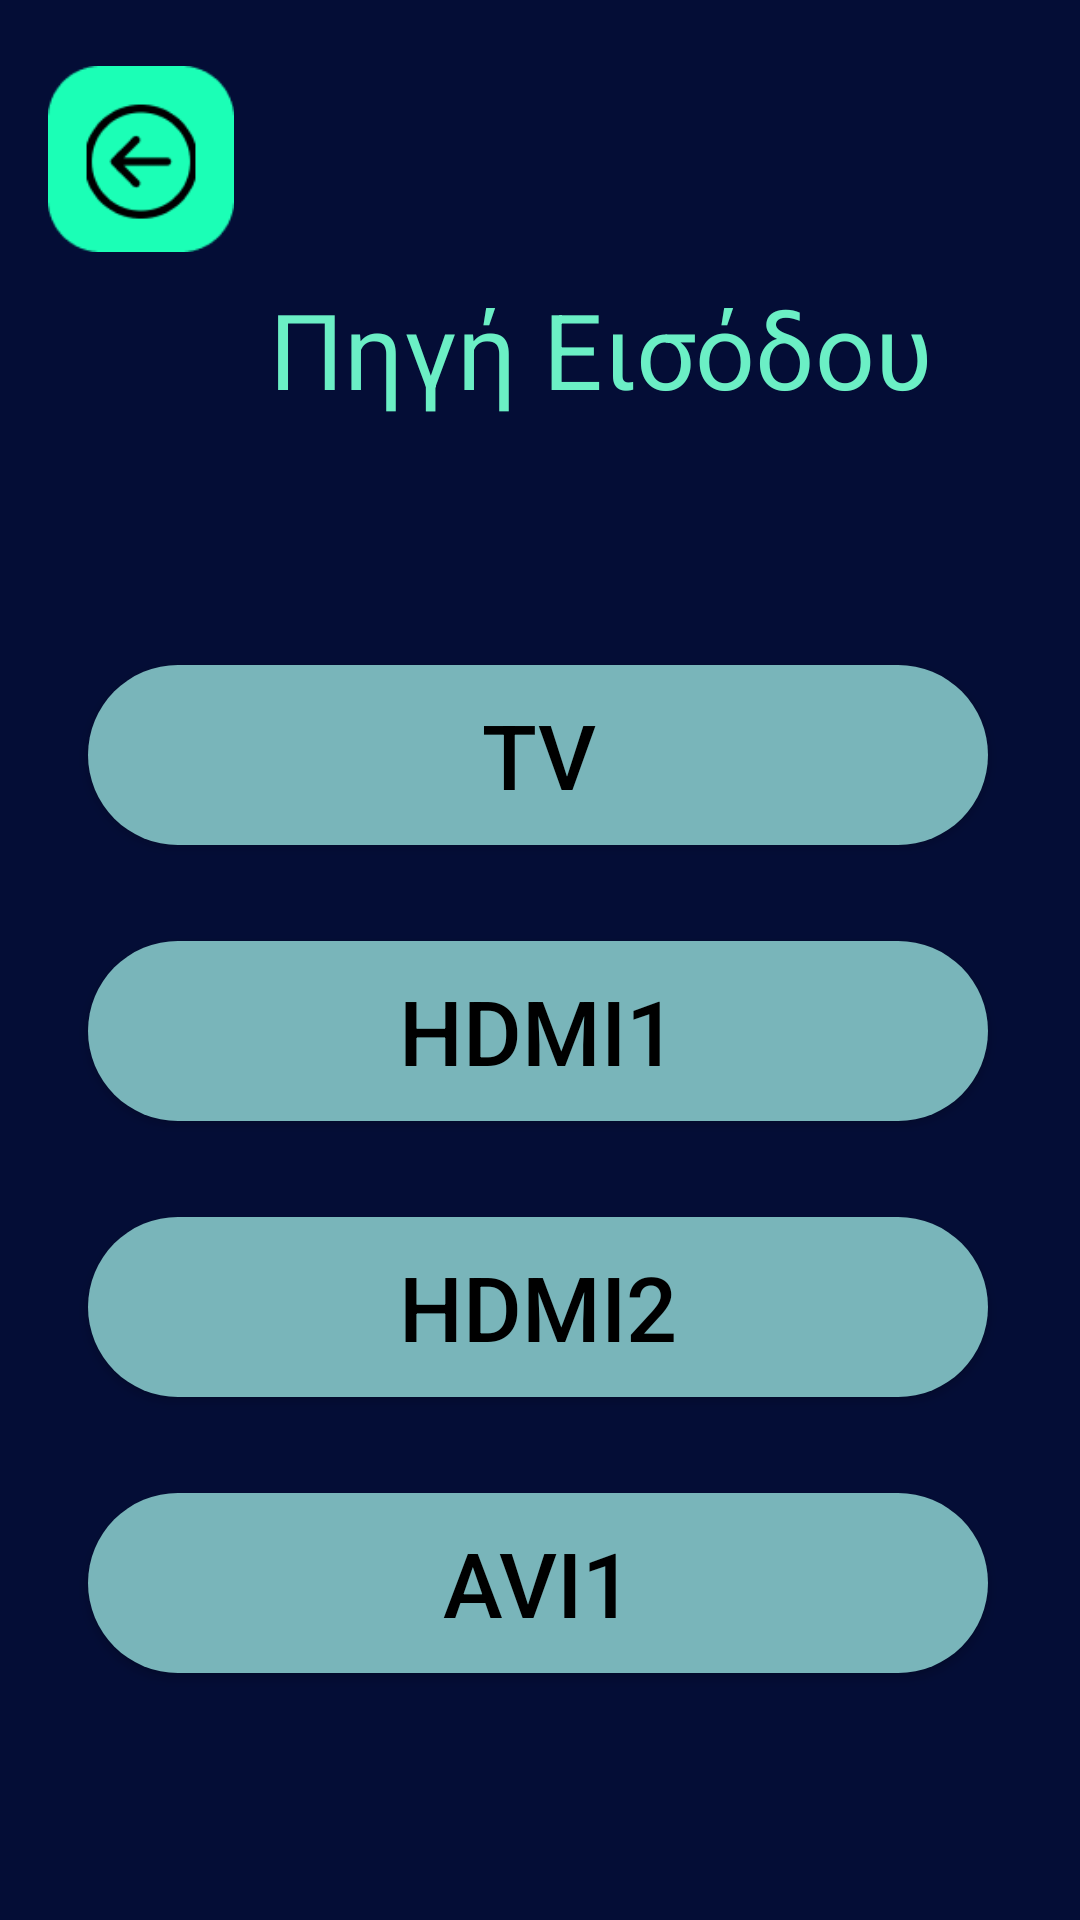

Where icons sit on this 1080px×1920px app screen, as region(x1, y1, x2, y2):
back: region(48, 66, 234, 252)
